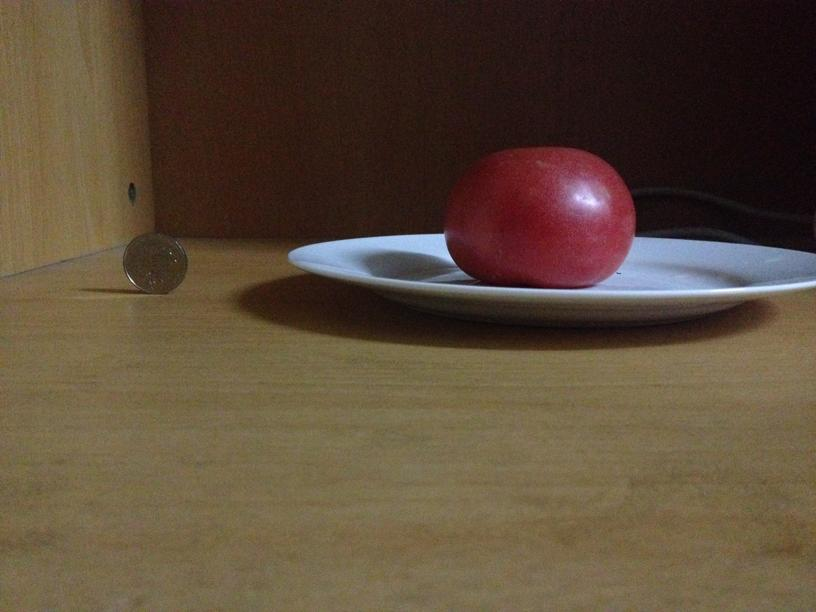coin: (118, 231, 186, 291)
tomato: (446, 148, 637, 287)
